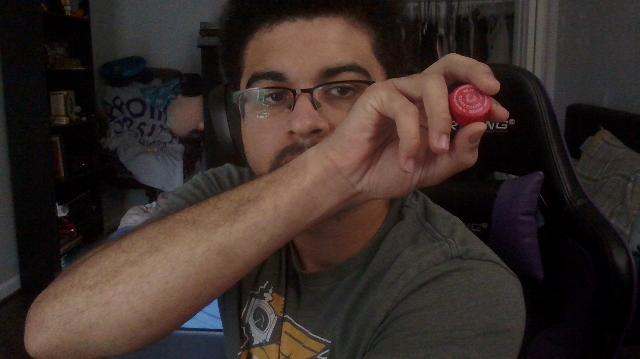cap: (450, 85, 492, 126)
